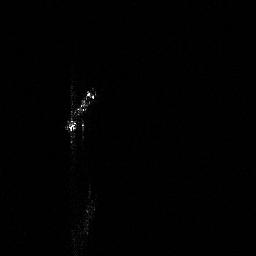ship: (61, 83, 100, 136)
